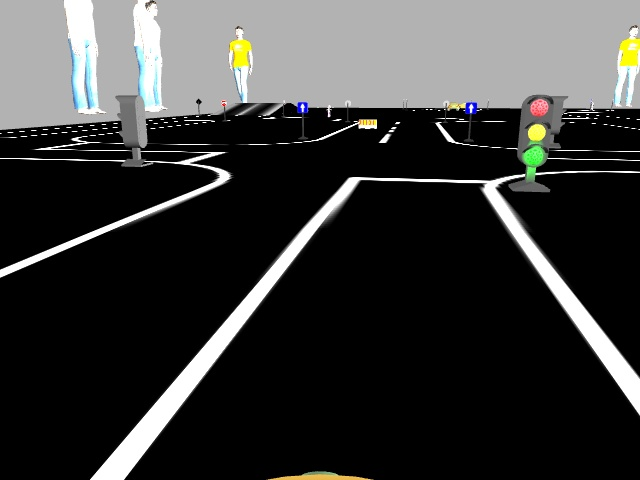ClosedRoadStand: (358, 118, 375, 128)
OneWay: (465, 101, 475, 112), (297, 101, 307, 112)
TrafficLight: (514, 94, 553, 167)
